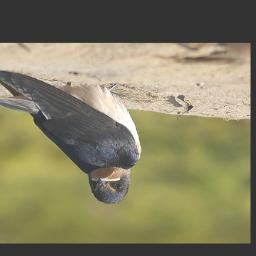Swallow: (0, 70, 143, 204)
